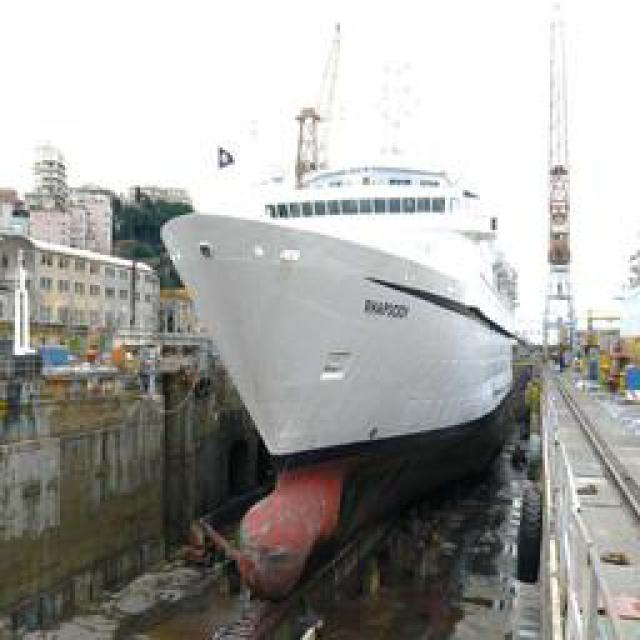Ship: (160, 118, 543, 516)
